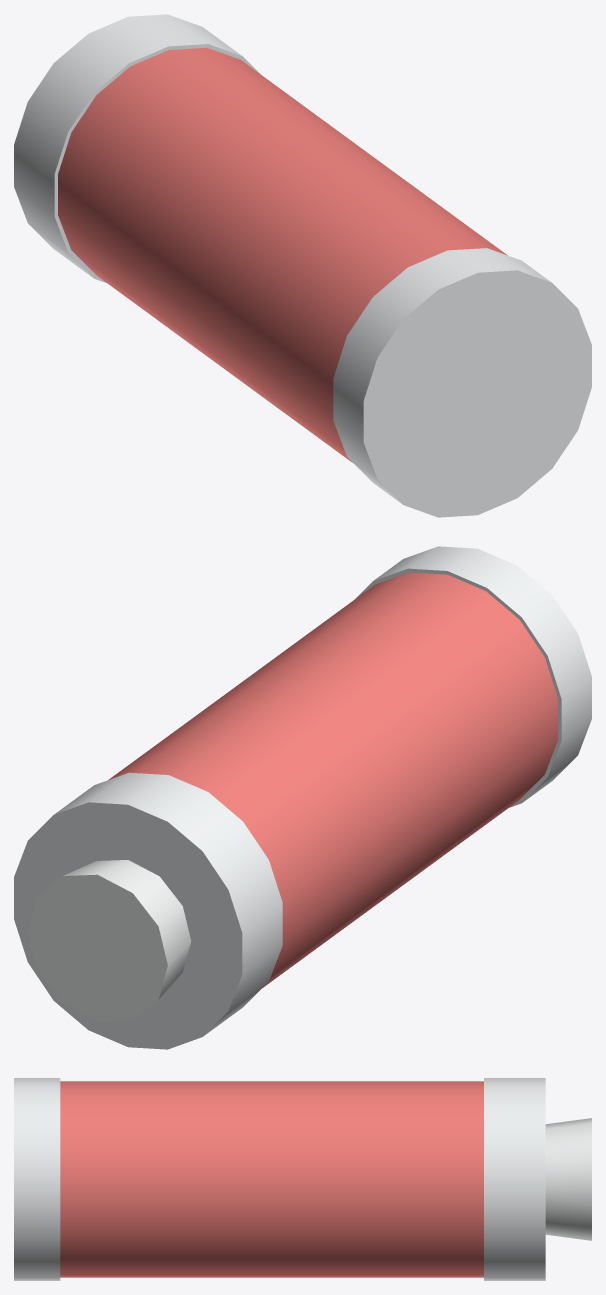
The model's file is item_sprey_boya.glb.
3 renders of one model, top to bottom at view 1: azimuth 30°, elevation 25°; view 2: azimuth 150°, elevation 25°; view 3: azimuth 270°, elevation 25°, orthographic. The views are drawn at different scales.
Parts seen in each view (by area): view 1: sprey_boya; view 2: sprey_boya; view 3: sprey_boya.
Boxes of the visible parts, box(x1,y1,x2,y2) form: sprey_boya: box(14, 14, 591, 517); sprey_boya: box(14, 546, 591, 1049); sprey_boya: box(14, 1078, 591, 1280).
Bounding box in the file's own units: 0.065 × 0.066 × 0.1875.
